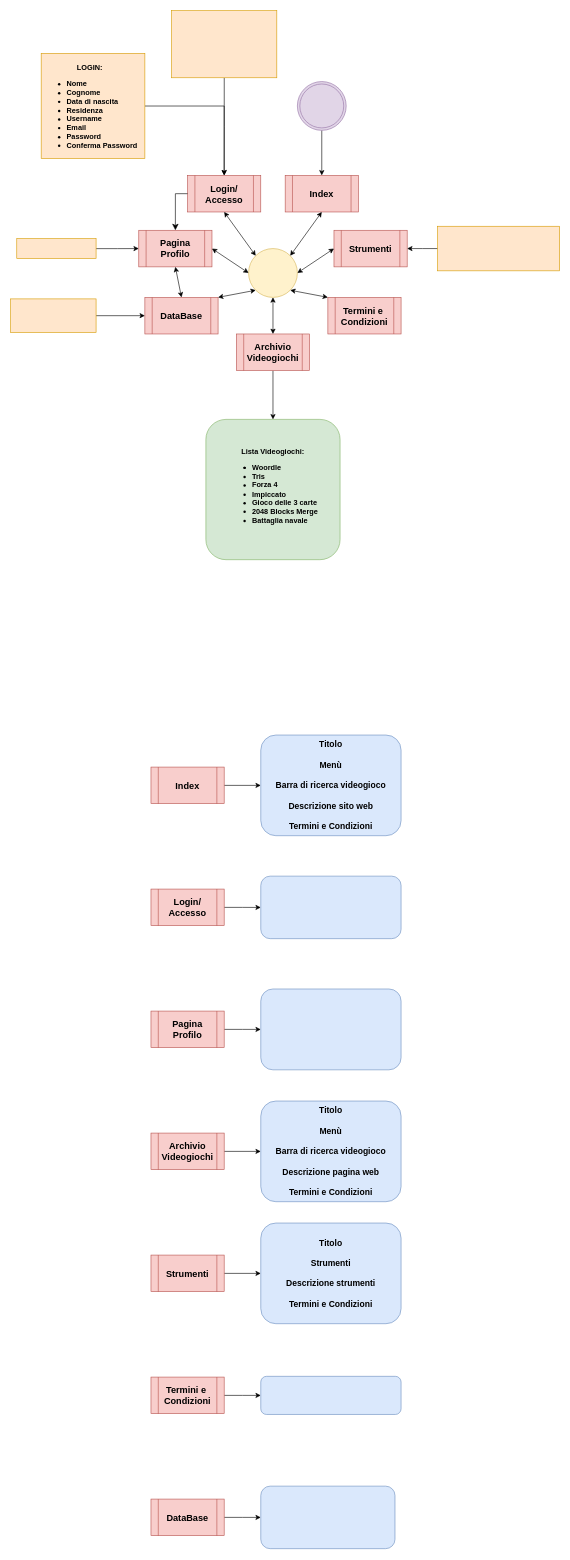
Image size: 570x1560. Some labels were removed from this diagram. Each missing label, with the centre of its shape:
"ACCESSO : Username Email Password Conferma Password" belongs at [224,44].
"Elenco D ati Hashing Password" belongs at [53,315].
"INIZIO" belongs at [321,105].
"NODO" belongs at [272,272].
"Punteggio" belongs at [56,248].
"Strumenti Calcolatrice Generatore di Password" belongs at [498,248].
"Titolo Elenco dati utenti Termini e Condizioni" belongs at [327,1517].
"Titolo Menù Dati profilo Termini e Condizioni" belongs at [330,1029].
"Titolo Schermata di login/accesso Termini e Condizioni" belongs at [330,907].
"Titolo Termini e Condizioni" belongs at [330,1395].
